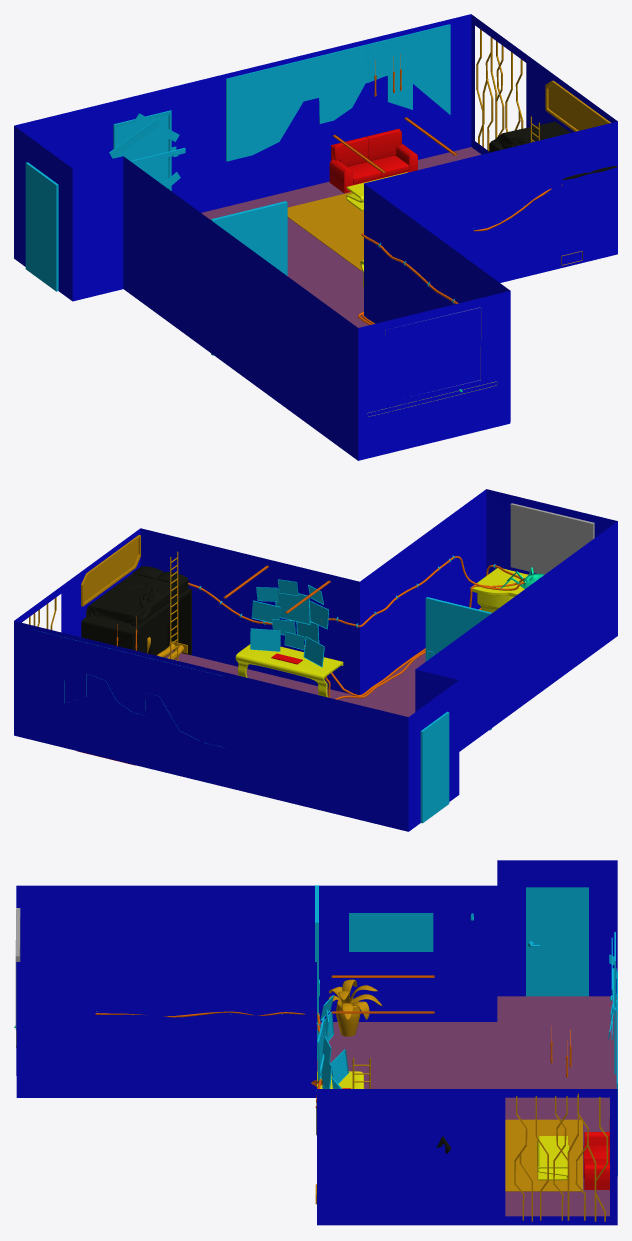
File: roombase.fbx
The picture shows the model from 3 angles, top to bottom: view 1: azimuth 30°, elevation 25°; view 2: azimuth 150°, elevation 25°; view 3: azimuth 270°, elevation 25°; orthographic projection. The views are drawn at different scales.
Visible parts, largest first — view 1: MainStructure1, artPanel, kitchendoor, rug, sillon2:Mat4, slidedoorfront, outdoor, windowdeco1, window, mantita; view 2: MainStructure1, Screen, bed_base, kitchendoor, mantita, slidedoorfront, mesa:modelPanel4ViewSelectedSet, window, mesa3:modelPanel4ViewSelectedSet, pPlane1, bed, wireing (+5 smaller); view 3: MainStructure1, kitchendoor, rug, painting, windowdeco1, plant1, mesita:pCube52, sillon2:Mat4.
Part boxes in pixels (<box>): MainStructure1: <box>14,14,617,460</box>; artPanel: <box>226,24,450,161</box>; kitchendoor: <box>25,162,58,291</box>; rug: <box>287,192,363,270</box>; sillon2:Mat4: <box>329,128,417,193</box>; slidedoorfront: <box>211,201,287,355</box>; outdoor: <box>113,110,171,190</box>; windowdeco1: <box>476,29,523,150</box>; window: <box>545,80,610,131</box>; mantita: <box>490,121,570,147</box>; MainStructure1: <box>14,489,617,831</box>; Screen: <box>510,503,594,574</box>; bed_base: <box>81,588,191,655</box>; kitchendoor: <box>420,711,449,823</box>; mantita: <box>86,576,163,630</box>; slidedoorfront: <box>425,597,491,730</box>; mesa:modelPanel4ViewSelectedSet: <box>235,644,343,697</box>; window: <box>81,535,140,606</box>; mesa3:modelPanel4ViewSelectedSet: <box>470,568,528,612</box>; pPlane1: <box>275,588,310,624</box>; bed: <box>129,573,188,624</box>; wireing: <box>188,565,521,696</box>; MainStructure1: <box>16,860,617,1225</box>; kitchendoor: <box>526,887,588,996</box>; rug: <box>505,1119,582,1191</box>; painting: <box>349,913,433,951</box>; windowdeco1: <box>514,1093,607,1221</box>; plant1: <box>328,979,382,1036</box>; mesita:pCube52: <box>537,1136,568,1180</box>; sillon2:Mat4: <box>583,1118,609,1189</box>.
Size of the model in its own units: 18.2 by 5.37 by 20.09.
